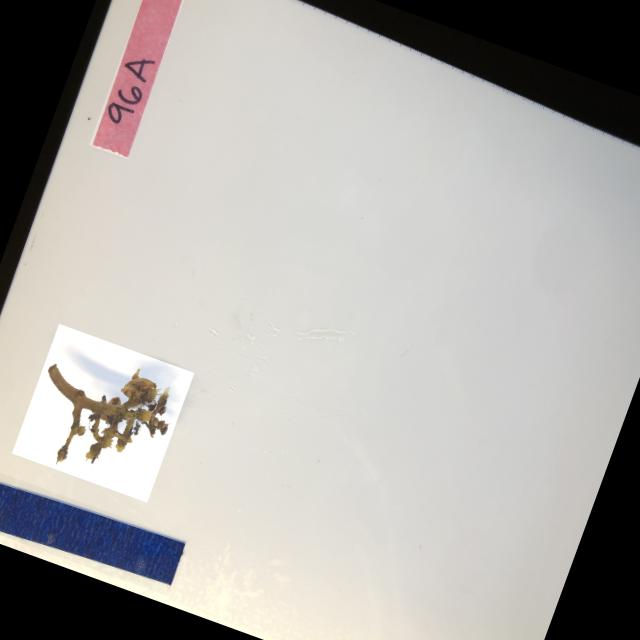index: (89, 0, 187, 157)
measure_label: (0, 459, 188, 595)
rachis_cluster: (12, 323, 195, 502)
